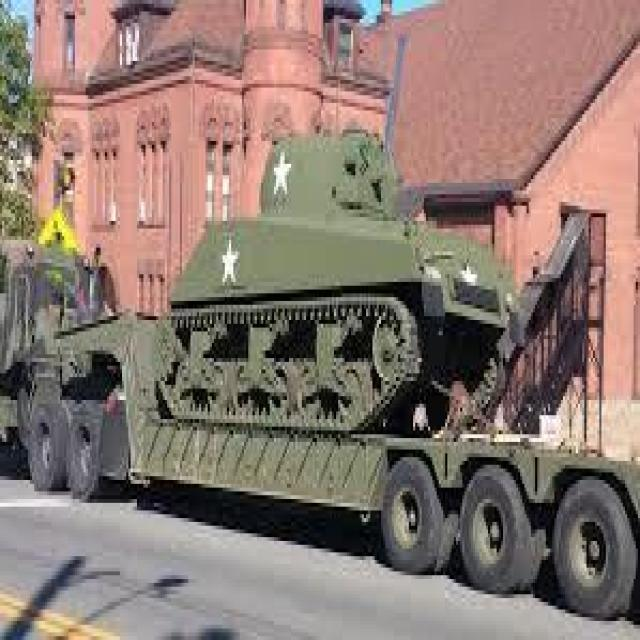Tanks: (136, 74, 515, 436)
